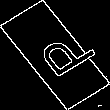P_SW: (19, 26, 91, 84)
